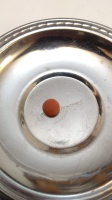Dolorex: (41, 98, 61, 119)
